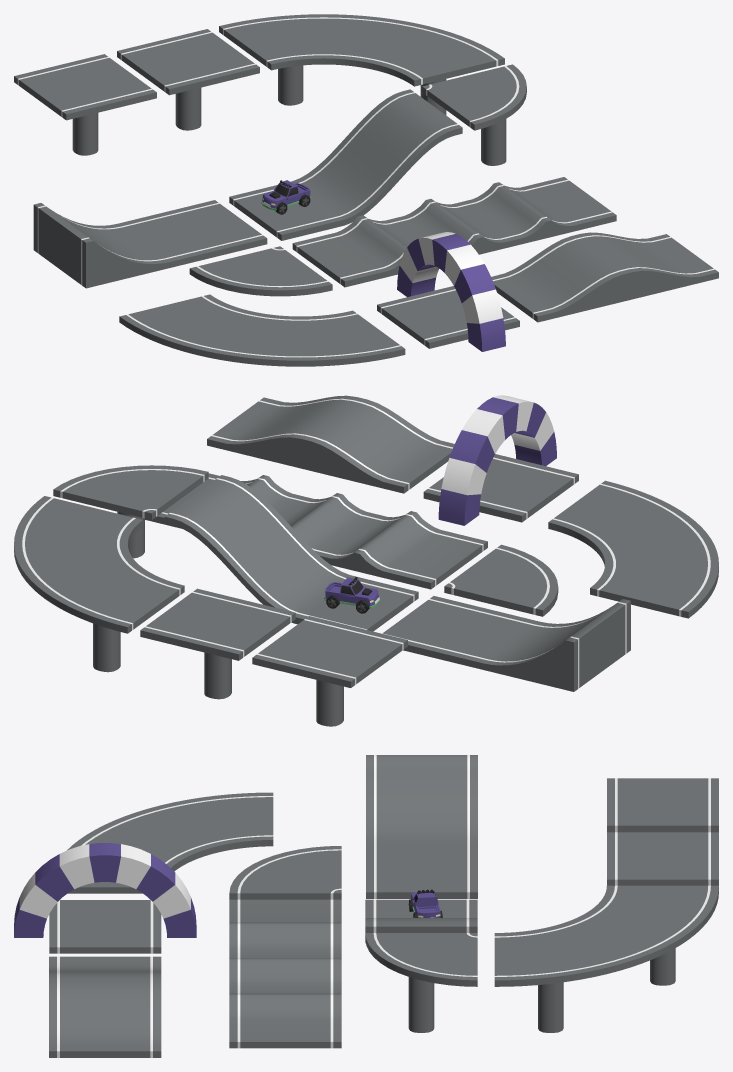
The model's file is StylizedRoadPack.obj.
3 views of the same model, one above another, from view 1: azimuth 30°, elevation 25°; view 2: azimuth 150°, elevation 25°; view 3: azimuth 270°, elevation 25° (orthographic). The views are drawn at different scales.
Visible parts, largest first — view 1: small_hilly_street, big_elevated_curve, ascending_street, big_curve, big_hilly_street, ramp, streight_elevated_street(2), streight_elevated_street, arc, small_elevated_curve, small_curve, straight_street (+1 smaller); view 2: big_elevated_curve, big_hilly_street, ascending_street, big_curve, ramp, small_hilly_street, streight_elevated_street(2), streight_elevated_street, arc, small_elevated_curve, small_curve, straight_street (+1 smaller); view 3: small_hilly_street, big_elevated_curve, ramp, big_hilly_street, big_curve, arc, small_elevated_curve, streight_elevated_street(2), streight_elevated_street, straight_street, small_curve, ascending_street (+1 smaller).
Part boxes in pixels (x1=…): small_hilly_street: x1=292, y1=177, x2=616, y2=287; big_elevated_curve: x1=219, y1=14, x2=504, y2=114; ascending_street: x1=229, y1=89, x2=462, y2=240; big_curve: x1=119, y1=294, x2=405, y2=366; big_hilly_street: x1=491, y1=232, x2=718, y2=322; ramp: x1=33, y1=200, x2=267, y2=288; streight_elevated_street(2): x1=14, y1=54, x2=156, y2=155; streight_elevated_street: x1=117, y1=29, x2=259, y2=130; arc: x1=397, y1=232, x2=505, y2=351; small_elevated_curve: x1=422, y1=64, x2=526, y2=165; small_curve: x1=189, y1=246, x2=332, y2=296; straight_street: x1=377, y1=286, x2=519, y2=348; big_elevated_curve: x1=14, y1=496, x2=184, y2=672; big_hilly_street: x1=207, y1=395, x2=454, y2=493; ascending_street: x1=164, y1=475, x2=418, y2=631; big_curve: x1=548, y1=480, x2=718, y2=618; ramp: x1=382, y1=596, x2=630, y2=691; small_hilly_street: x1=145, y1=473, x2=487, y2=589; streight_elevated_street(2): x1=252, y1=616, x2=407, y2=726; streight_elevated_street: x1=140, y1=588, x2=295, y2=699; arc: x1=438, y1=395, x2=556, y2=525; small_elevated_curve: x1=53, y1=465, x2=208, y2=558; small_curve: x1=444, y1=544, x2=558, y2=616; straight_street: x1=423, y1=454, x2=578, y2=522; small_hilly_street: x1=229, y1=899, x2=341, y2=1048; big_elevated_curve: x1=494, y1=885, x2=718, y2=1032; ramp: x1=366, y1=755, x2=477, y2=898; big_hilly_street: x1=49, y1=956, x2=161, y2=1057; big_curve: x1=67, y1=792, x2=273, y2=893; arc: x1=14, y1=843, x2=196, y2=937; small_elevated_curve: x1=365, y1=933, x2=477, y2=1032; streight_elevated_street(2): x1=607, y1=778, x2=718, y2=832; streight_elevated_street: x1=607, y1=832, x2=718, y2=885; straight_street: x1=49, y1=900, x2=161, y2=953; small_curve: x1=229, y1=846, x2=341, y2=899; ascending_street: x1=365, y1=899, x2=477, y2=943.
Size of the model in its own units: 69.88 by 10.4 by 80.42.
